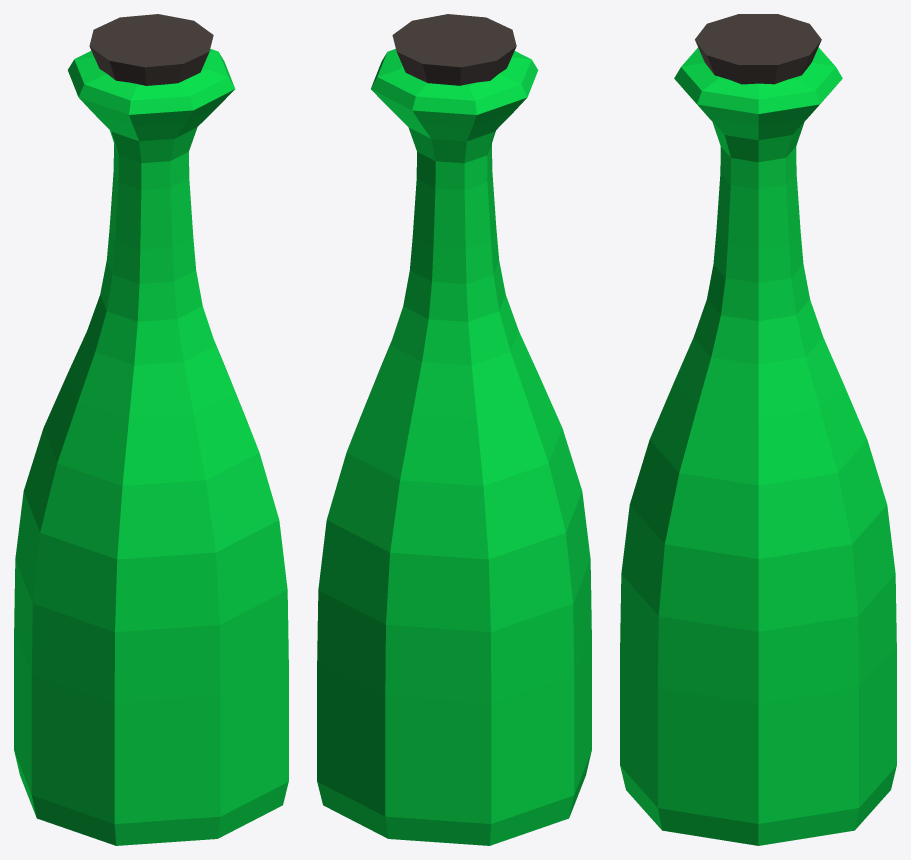
File: Stamina_Potion_004.fbx
The picture shows the model from 3 angles, left to right: view 1: azimuth 30°, elevation 25°; view 2: azimuth 150°, elevation 25°; view 3: azimuth 270°, elevation 25°; orthographic projection.
Visible parts, largest first — view 1: Stamina Potion.004; view 2: Stamina Potion.004; view 3: Stamina Potion.004.
Boxes of the visible parts, x1,y1,x2,y2 form: Stamina Potion.004: [14, 14, 288, 845]; Stamina Potion.004: [317, 14, 591, 845]; Stamina Potion.004: [620, 14, 896, 845].
Bounding box in the file's own units: 16.17 × 48.8 × 16.17.
